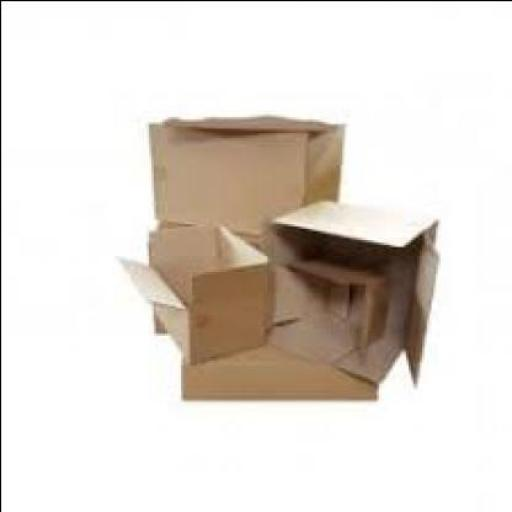cardboard: (273, 196, 442, 389), (150, 116, 346, 234), (123, 221, 273, 361), (180, 330, 375, 399)
